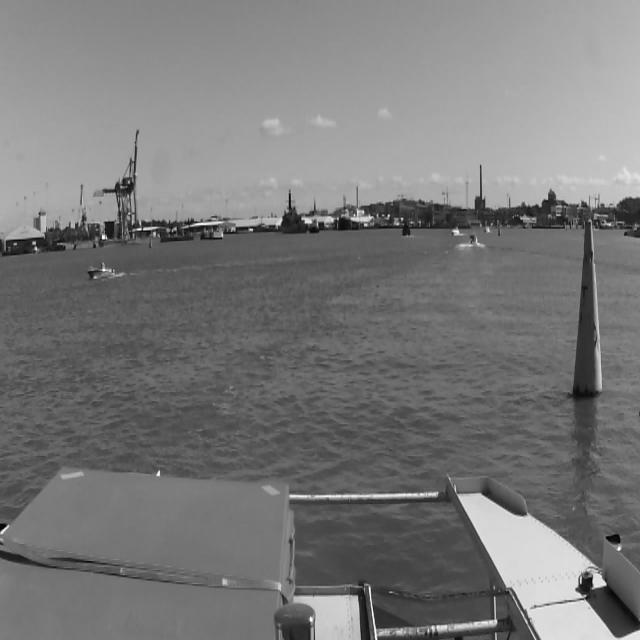buoy: (572, 214, 604, 400), (149, 235, 152, 249)
ship: (274, 194, 310, 234), (86, 262, 116, 281), (337, 196, 348, 232), (307, 219, 319, 232), (468, 233, 478, 247), (450, 226, 460, 237)
